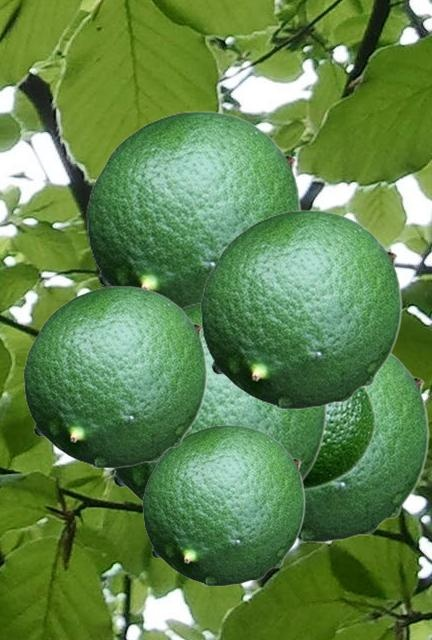calamansi: (110, 300, 326, 504), (86, 110, 300, 306), (200, 209, 401, 408), (23, 285, 206, 467), (142, 424, 304, 585), (297, 351, 428, 541), (304, 387, 376, 491)
